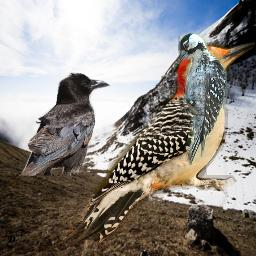Crow: (20, 72, 111, 176)
Woodpecker: (60, 42, 255, 250), (178, 33, 227, 165)
